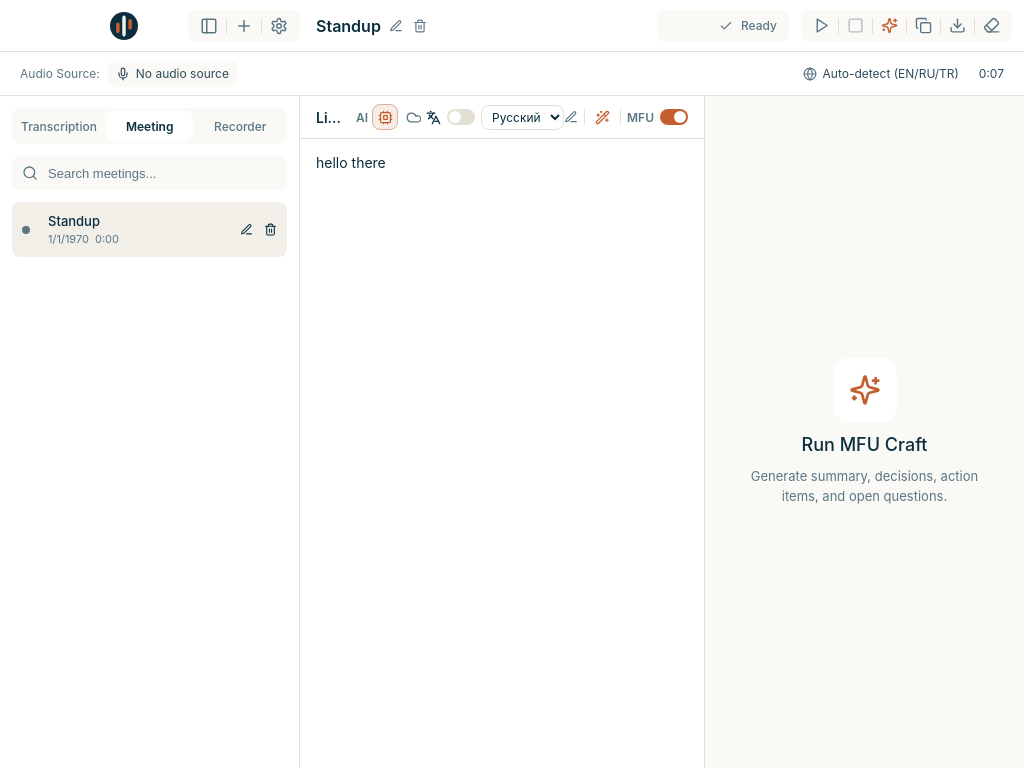
StreamingView — mfu › Craft / MFU › keeps showing MFU Failed until the next Craft attempt
Step 1. Click the text "Standup" → (74, 221), box [48, 213, 100, 229]
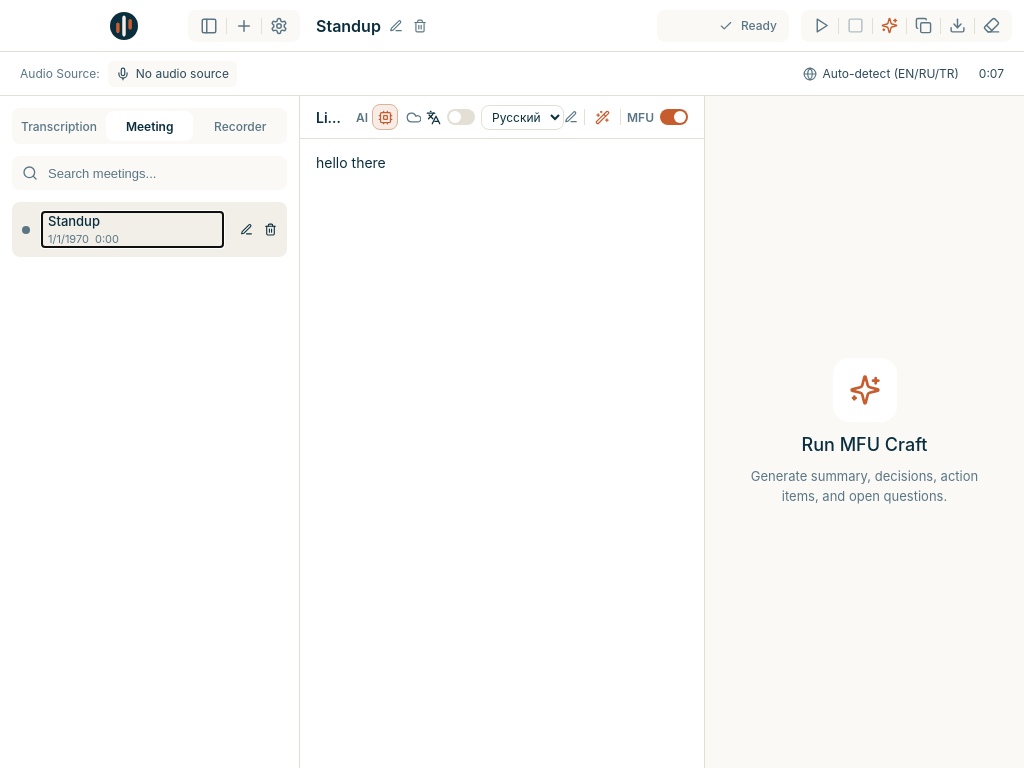
Step 2. Click the button named "Craft MFU" → (890, 26), box [877, 13, 902, 38]
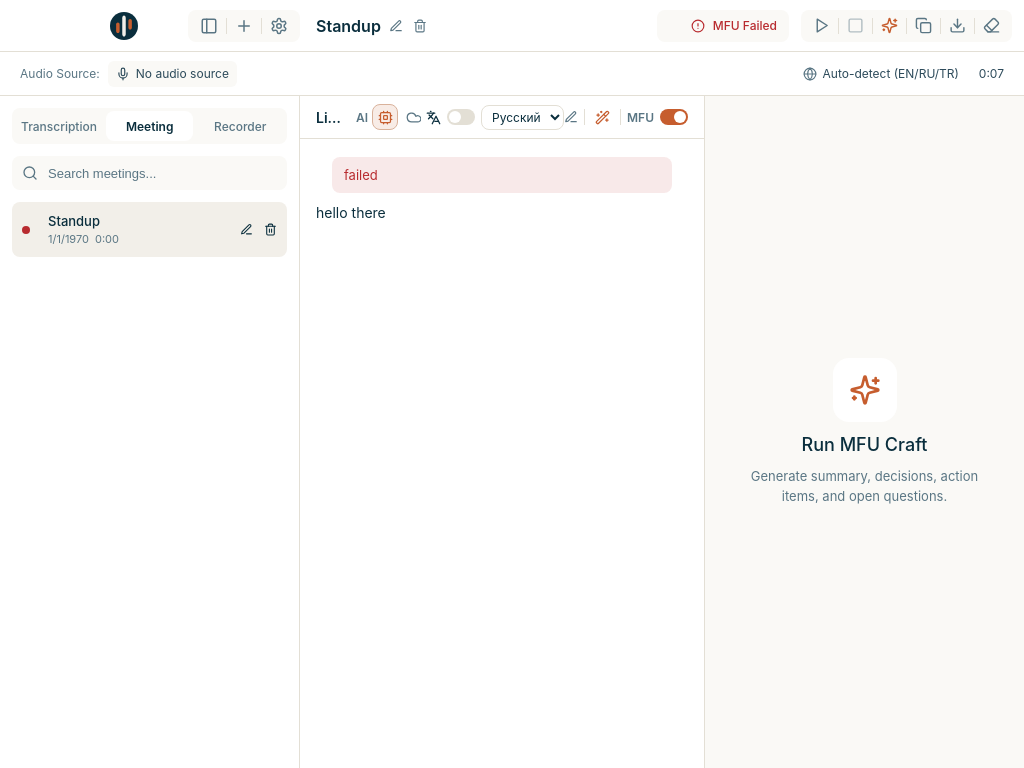
Check: the message "MFU Failed" is shown, box [657, 10, 789, 42]
Step 3. Click the button named "Craft MFU" → (890, 26), box [877, 13, 902, 38]
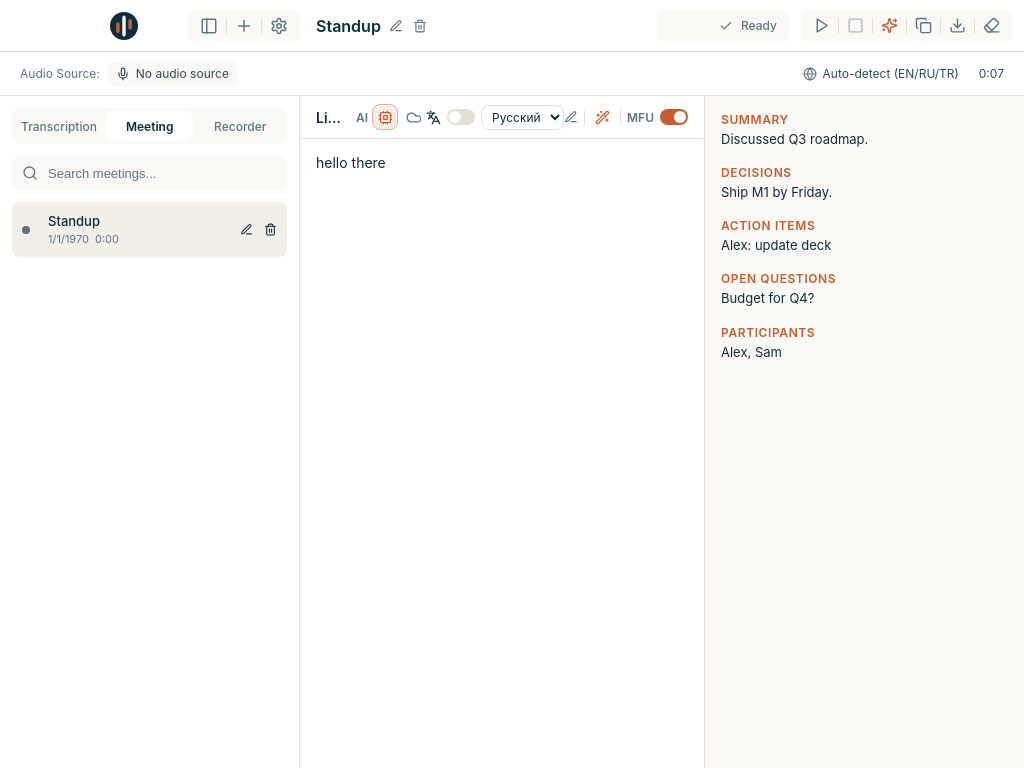
Check: the message no longer shows "MFU Failed", box [657, 10, 789, 42]
